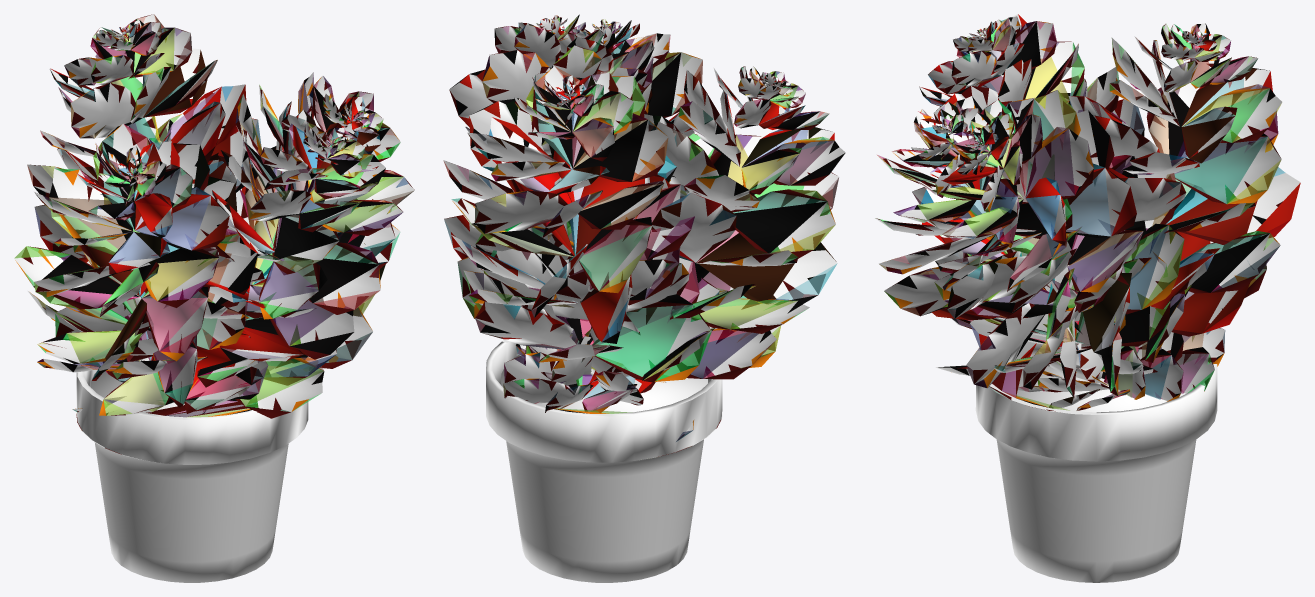
The picture shows the model from 3 angles, left to right: view 1: azimuth 30°, elevation 25°; view 2: azimuth 150°, elevation 25°; view 3: azimuth 270°, elevation 25°; orthographic projection. The views are drawn at different scales.
Bounding box in the file's own units: 0.7332 × 0.95 × 0.7201.
